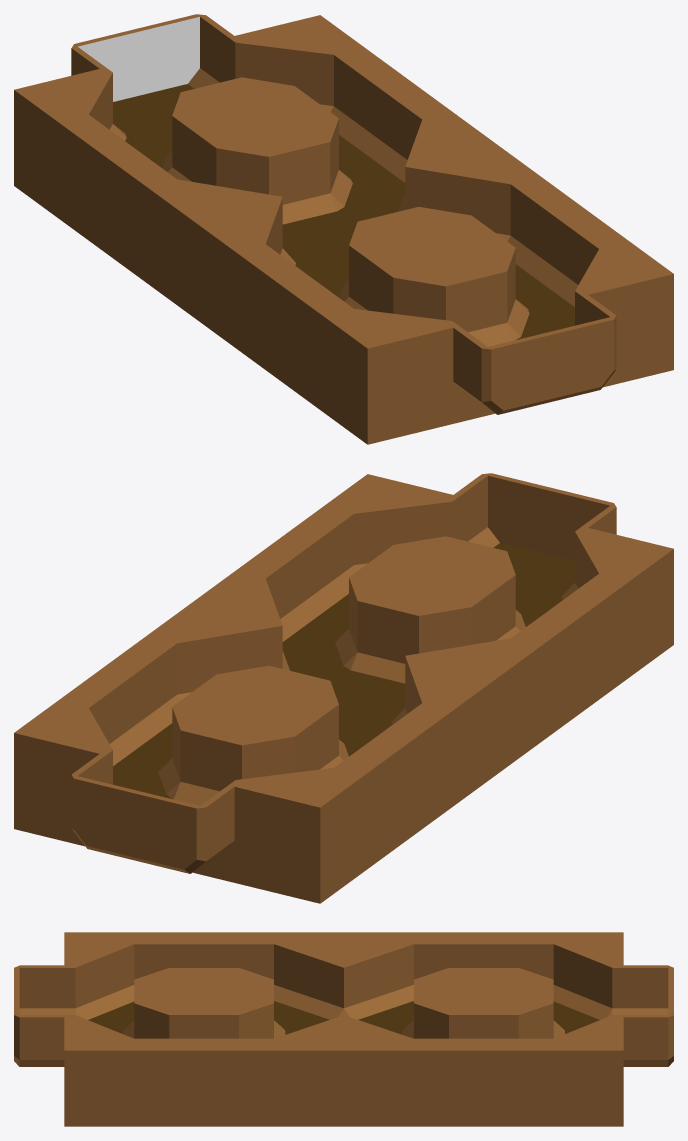
Rendered from Arena Test V2.fbx.
The picture shows the model from 3 angles, top to bottom: view 1: azimuth 30°, elevation 25°; view 2: azimuth 150°, elevation 25°; view 3: azimuth 270°, elevation 25°; orthographic projection. The views are drawn at different scales.
Parts seen in each view (by area): view 1: Model; view 2: Model; view 3: Model.
Part boxes in pixels (<box>): Model: <box>14,14,673,444</box>; Model: <box>14,473,673,903</box>; Model: <box>14,932,673,1126</box>.
Size of the model in its own units: 50 by 15 by 118.
